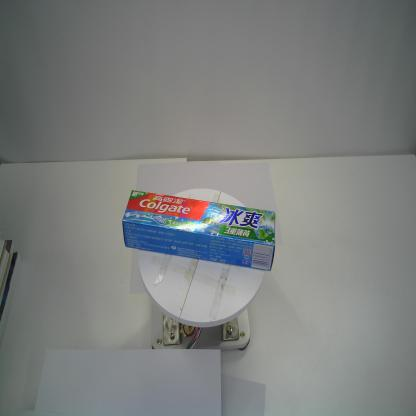Personal Hygiene: (120, 188, 279, 274)
